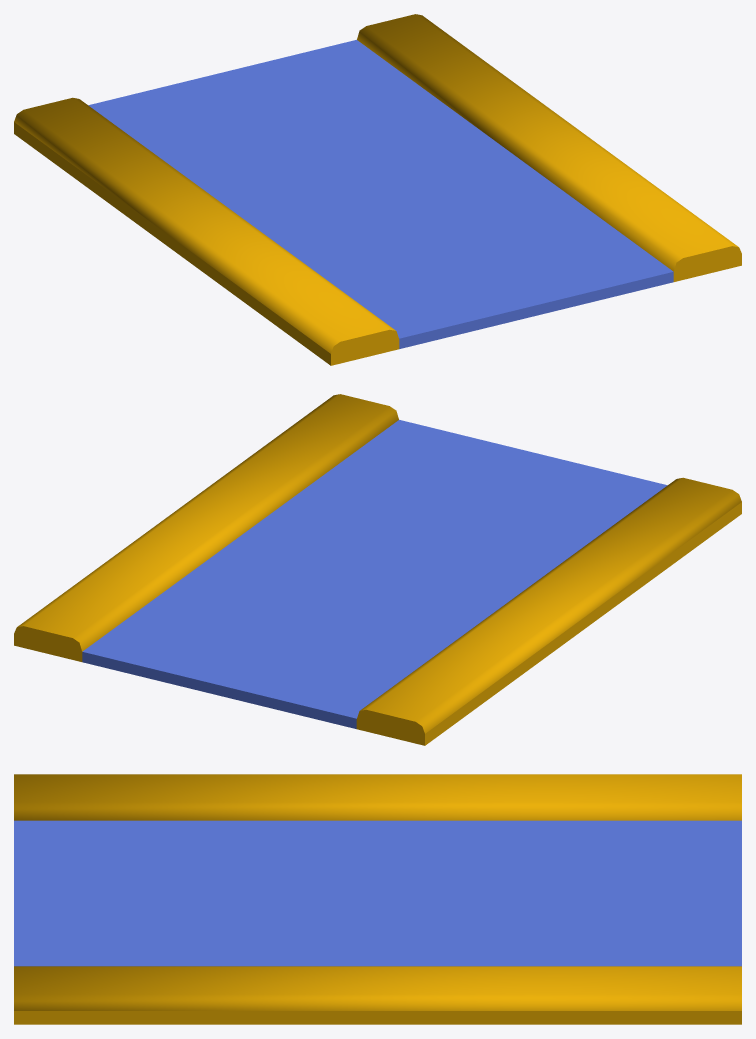
The model's file is SM_Saw_Road_01a.fbx.
3 views of the same model, one above another, from view 1: azimuth 30°, elevation 25°; view 2: azimuth 150°, elevation 25°; view 3: azimuth 270°, elevation 25° (orthographic). The views are drawn at different scales.
Parts seen in each view (by area): view 1: Road; view 2: Road; view 3: Road.
Part boxes in pixels (x1,y1,x2,y2): Road: (14, 14, 741, 365); Road: (14, 394, 741, 745); Road: (14, 774, 741, 1024).
Bounding box in the file's own units: 300 × 15.22 × 400.
